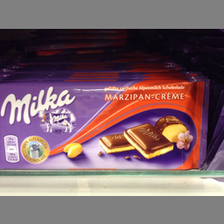chocolate: (1, 80, 206, 170)
